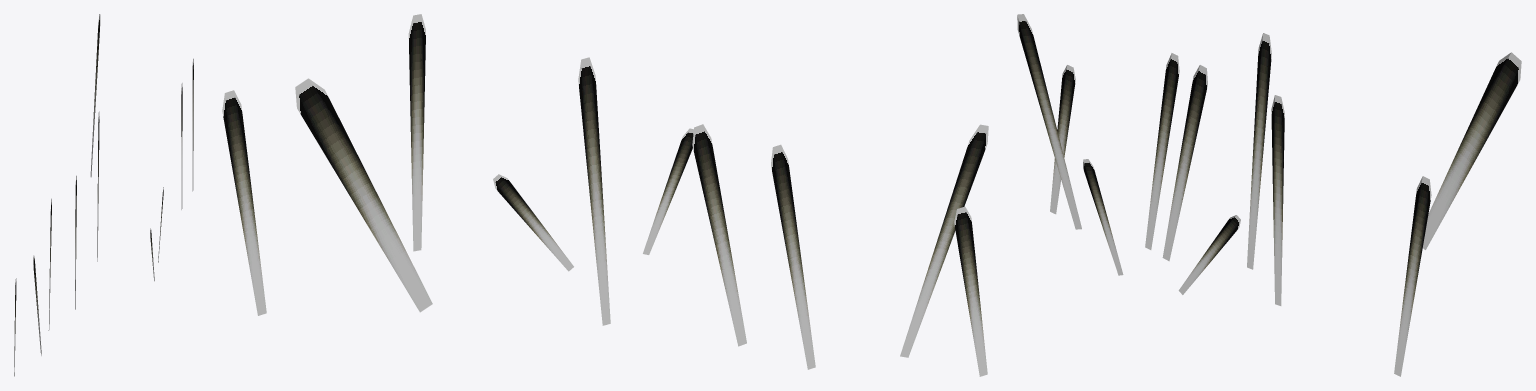
File: stg110_MotSpotBa_d3_04.obj
3 renders of one model, left to right at view 1: azimuth 30°, elevation 25°; view 2: azimuth 150°, elevation 25°; view 3: azimuth 270°, elevation 25°, orthographic. The views are drawn at different scales.
Parts seen in each view (by area): view 1: polygon0, polygon2, polygon9, polygon7, polygon4, polygon5, polygon8; view 2: polygon0, polygon7, polygon2, polygon4, polygon5, polygon9, polygon8, polygon6, polygon1, polygon3; view 3: polygon0, polygon7, polygon2, polygon4, polygon5, polygon9, polygon8, polygon6, polygon3, polygon1.
Boxes of the visible parts, x1=… form: polygon0: x1=90, y1=14, x2=100, y2=177; polygon2: x1=192, y1=58, x2=193, y2=191; polygon9: x1=181, y1=83, x2=182, y2=209; polygon7: x1=97, y1=111, x2=99, y2=261; polygon4: x1=75, y1=175, x2=76, y2=309; polygon5: x1=33, y1=255, x2=41, y2=355; polygon8: x1=48, y1=198, x2=51, y2=330; polygon0: x1=295, y1=78, x2=432, y2=312; polygon7: x1=578, y1=57, x2=610, y2=325; polygon2: x1=222, y1=90, x2=266, y2=315; polygon4: x1=692, y1=124, x2=746, y2=346; polygon5: x1=900, y1=124, x2=988, y2=357; polygon9: x1=408, y1=14, x2=425, y2=251; polygon8: x1=771, y1=144, x2=815, y2=369; polygon6: x1=954, y1=206, x2=987, y2=376; polygon1: x1=493, y1=174, x2=573, y2=271; polygon3: x1=643, y1=128, x2=693, y2=254; polygon0: x1=1422, y1=52, x2=1521, y2=249; polygon7: x1=1247, y1=33, x2=1271, y2=269; polygon2: x1=1394, y1=176, x2=1431, y2=376; polygon4: x1=1162, y1=65, x2=1207, y2=261; polygon5: x1=1017, y1=14, x2=1081, y2=229; polygon9: x1=1271, y1=95, x2=1284, y2=305; polygon8: x1=1145, y1=53, x2=1179, y2=249; polygon6: x1=1050, y1=65, x2=1075, y2=214; polygon3: x1=1083, y1=159, x2=1123, y2=275; polygon1: x1=1178, y1=215, x2=1240, y2=294.
Size of the model in its own units: 2313 by 1548 by 2069.
